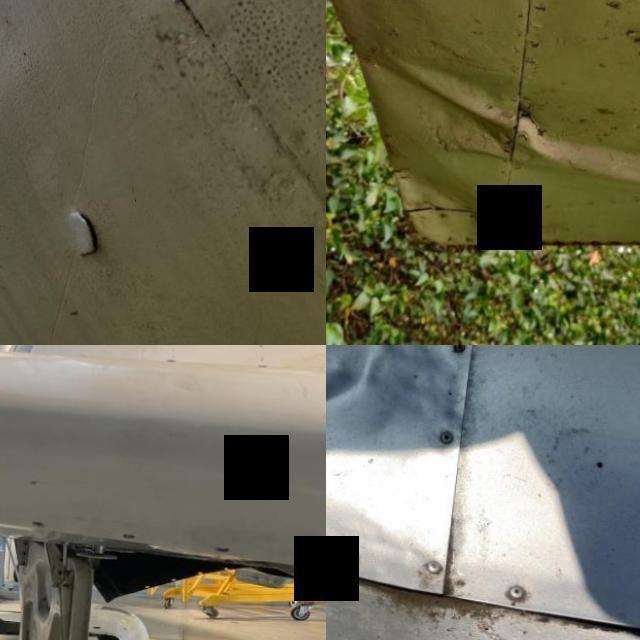Crack: (46, 195, 116, 268), (514, 104, 560, 148)
Dent: (347, 20, 640, 262), (387, 158, 528, 273)
Missing_Fastener: (118, 531, 137, 542), (31, 519, 50, 530), (214, 546, 233, 554), (314, 560, 326, 570)
